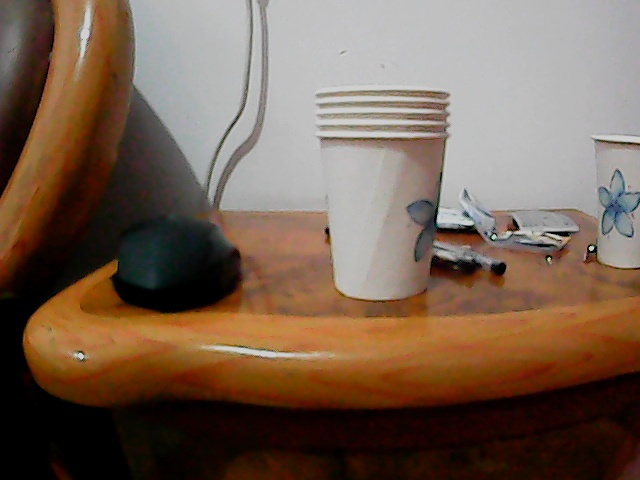cup: (313, 83, 449, 302)
mouse: (111, 212, 243, 310)
